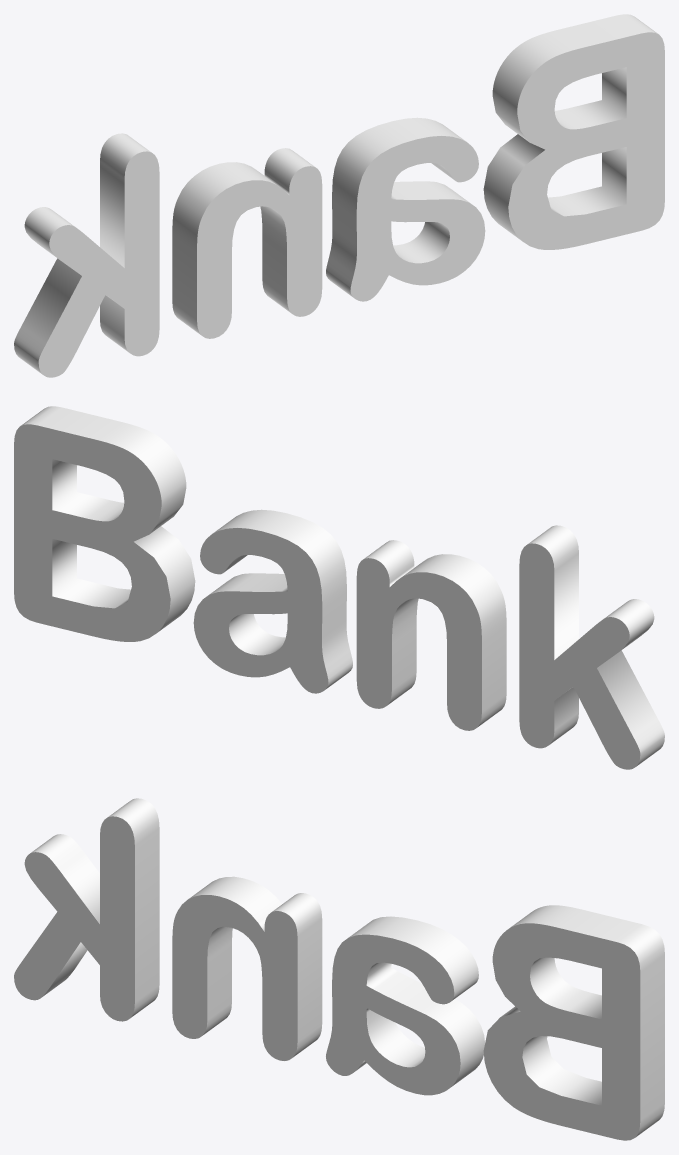
The model's file is Text Bank.fbx.
3 views of the same model, one above another, from view 1: azimuth 30°, elevation 25°; view 2: azimuth 150°, elevation 25°; view 3: azimuth 330°, elevation 25° (orthographic).
Parts seen in each view (by area): view 1: Bank; view 2: Bank; view 3: Bank.
Part boxes in pixels (x1,y1,x2,y2): Bank: [14, 14, 664, 377]; Bank: [14, 406, 664, 769]; Bank: [14, 798, 664, 1140].
Size of the model in its own units: 20.54 by 6.4 by 1.4.
